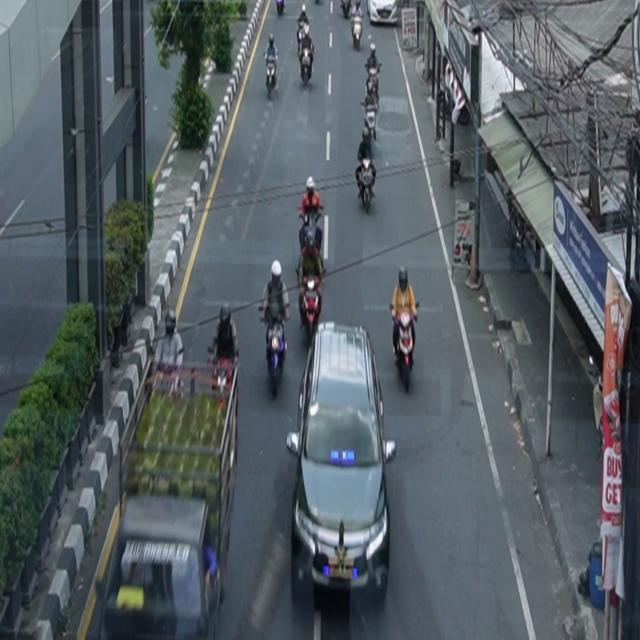car: (287, 321, 397, 597)
